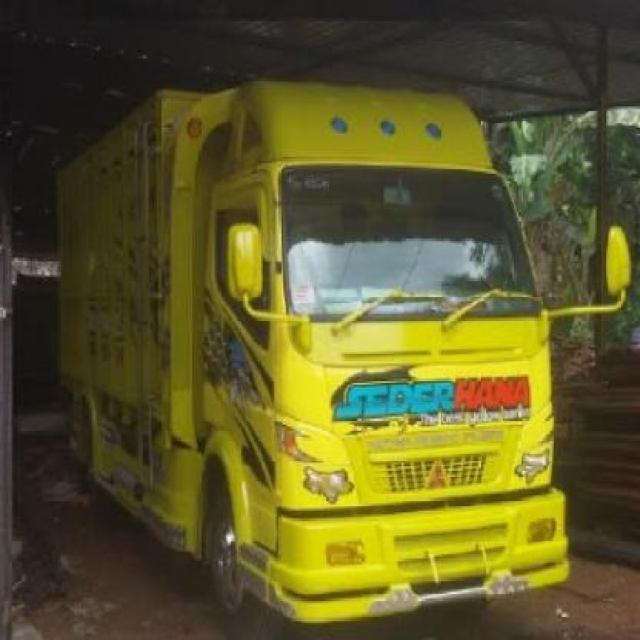truck: (55, 78, 627, 624)
